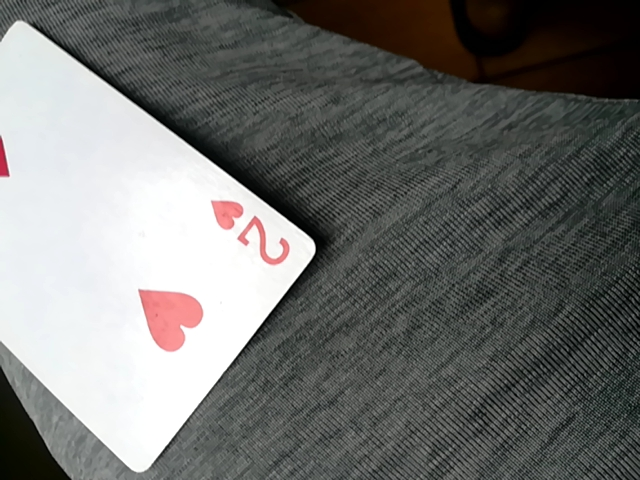hx 2: (1, 10, 326, 477)
